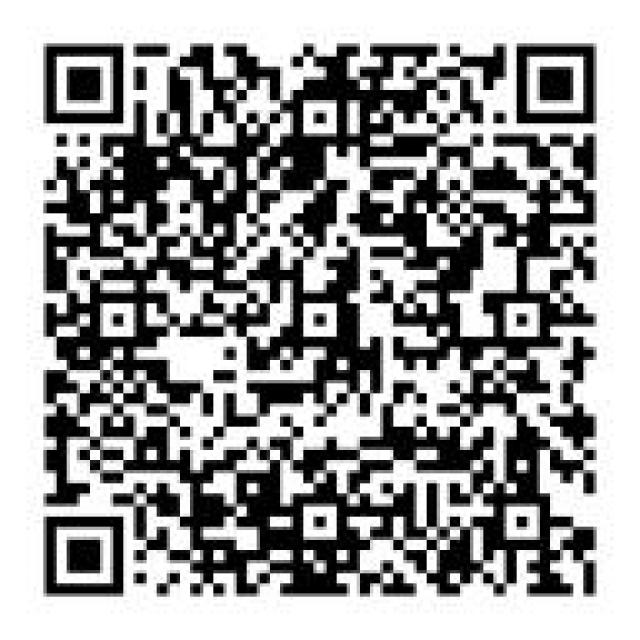QR_CODE: (30, 33, 605, 607)
